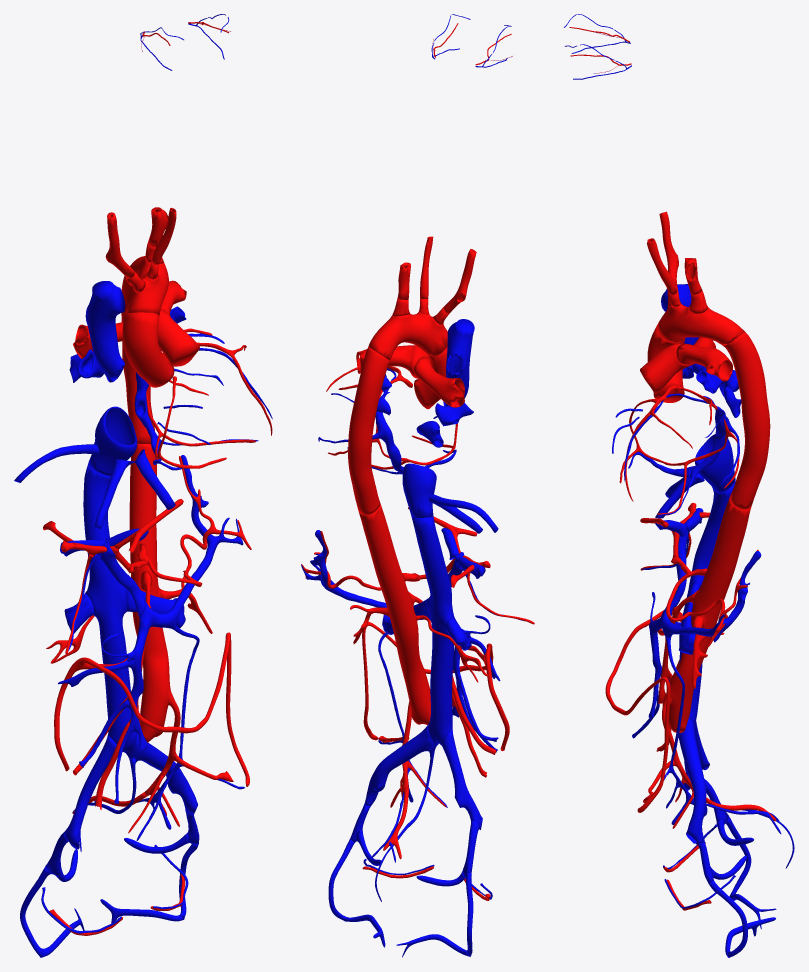
File: vh_f_blood_vasculature-40.glb
3 renders of one model, left to right at view 1: azimuth 30°, elevation 25°; view 2: azimuth 150°, elevation 25°; view 3: azimuth 270°, elevation 25°, orthographic. The views are drawn at different scales.
Visible parts, largest first — view 1: VH_F_inferior_vena_cava_b, VH_F_descending_aorta_b, VH_F_superior_vena_cava, VH_F_marginal_artery_of_Drummond, VH_F_ascending_aorta, VH_F_inferior_vena_cava_a, VH_F_splenic_vein, VH_F_aortic_arch, VH_F_left_common_iliac_vein, VH_F_pulmonary_trunk, VH_F_right_common_iliac_vein, VH_F_descending_aorta_a (+14 smaller); view 2: VH_F_descending_aorta_b, VH_F_inferior_vena_cava_b, VH_F_descending_aorta_a, VH_F_aortic_arch, VH_F_superior_vena_cava, VH_F_inferior_vena_cava_a, VH_F_left_common_iliac_vein, VH_F_marginal_artery_of_Drummond, VH_F_pulmonary_artery_R, VH_F_right_common_iliac_vein, VH_F_splenic_vein, VH_F_ascending_aorta (+6 smaller); view 3: VH_F_descending_aorta_b, VH_F_descending_aorta_a, VH_F_aortic_arch, VH_F_inferior_vena_cava_b, VH_F_left_common_iliac_vein, VH_F_marginal_artery_of_Drummond, VH_F_splenic_vein, VH_F_pulmonary_artery_L, VH_F_inferior_vena_cava_a, VH_F_pulmonary_trunk, VH_F_ascending_aorta, VH_F_splenic_artery (+11 smaller).
Boxes of the visible parts, bbox=[...] form: VH_F_inferior_vena_cava_b: bbox=[83, 463, 136, 752]; VH_F_descending_aorta_b: bbox=[129, 443, 170, 742]; VH_F_superior_vena_cava: bbox=[85, 281, 125, 382]; VH_F_marginal_artery_of_Drummond: bbox=[54, 632, 249, 786]; VH_F_ascending_aorta: bbox=[122, 312, 174, 387]; VH_F_inferior_vena_cava_a: bbox=[88, 406, 137, 476]; VH_F_splenic_vein: bbox=[139, 455, 243, 629]; VH_F_aortic_arch: bbox=[125, 256, 168, 315]; VH_F_left_common_iliac_vein: bbox=[125, 733, 197, 815]; VH_F_pulmonary_trunk: bbox=[158, 309, 199, 366]; VH_F_right_common_iliac_vein: bbox=[64, 736, 116, 849]; VH_F_descending_aorta_a: bbox=[121, 275, 154, 444]; VH_F_descending_aorta_b: bbox=[359, 503, 430, 725]; VH_F_inferior_vena_cava_b: bbox=[412, 516, 454, 744]; VH_F_descending_aorta_a: bbox=[348, 347, 389, 514]; VH_F_aortic_arch: bbox=[368, 312, 447, 360]; VH_F_superior_vena_cava: bbox=[443, 319, 474, 406]; VH_F_inferior_vena_cava_a: bbox=[402, 463, 436, 517]; VH_F_left_common_iliac_vein: bbox=[364, 724, 438, 805]; VH_F_marginal_artery_of_Drummond: bbox=[362, 621, 509, 751]; VH_F_pulmonary_artery_R: bbox=[413, 356, 464, 407]; VH_F_right_common_iliac_vein: bbox=[441, 729, 482, 829]; VH_F_splenic_vein: bbox=[301, 530, 386, 607]; VH_F_ascending_aorta: bbox=[414, 347, 447, 409]; VH_F_descending_aorta_b: bbox=[668, 497, 751, 732]; VH_F_descending_aorta_a: bbox=[723, 332, 770, 509]; VH_F_aortic_arch: bbox=[657, 303, 744, 345]; VH_F_inferior_vena_cava_b: bbox=[679, 478, 735, 726]; VH_F_left_common_iliac_vein: bbox=[678, 718, 707, 843]; VH_F_marginal_artery_of_Drummond: bbox=[605, 610, 682, 812]; VH_F_splenic_vein: bbox=[660, 551, 761, 642]; VH_F_pulmonary_artery_L: bbox=[676, 343, 732, 381]; VH_F_inferior_vena_cava_a: bbox=[695, 434, 735, 492]; VH_F_pulmonary_trunk: bbox=[640, 343, 694, 394]; VH_F_ascending_aorta: bbox=[647, 324, 685, 402]; VH_F_splenic_artery: bbox=[666, 549, 758, 647].
Bounding box in the file's own units: 0.1927 × 0.799 × 0.1847.
